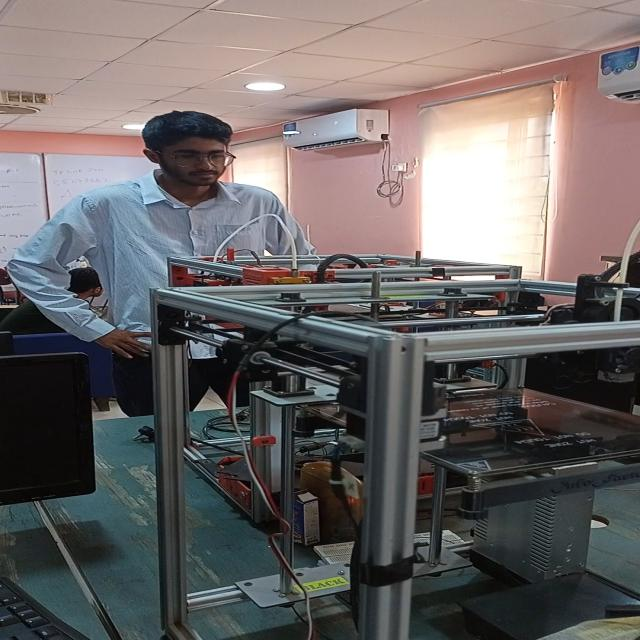dress: (6, 168, 313, 338)
glasses: (166, 148, 240, 172)
